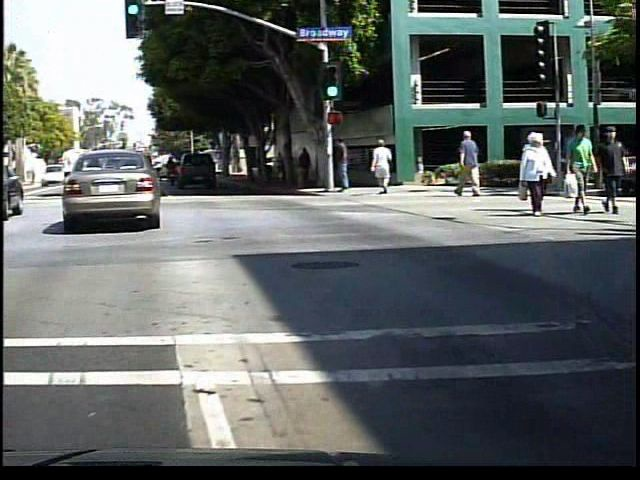person: (519, 132, 562, 216), (566, 124, 599, 217), (601, 124, 630, 215), (457, 129, 489, 197), (374, 139, 400, 198), (337, 135, 359, 200), (302, 144, 321, 191), (280, 150, 299, 189)
